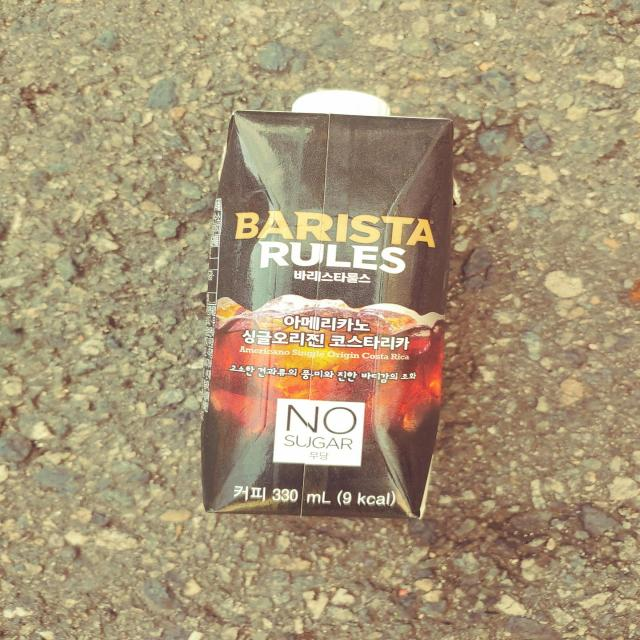paperpack: (201, 90, 452, 519)
